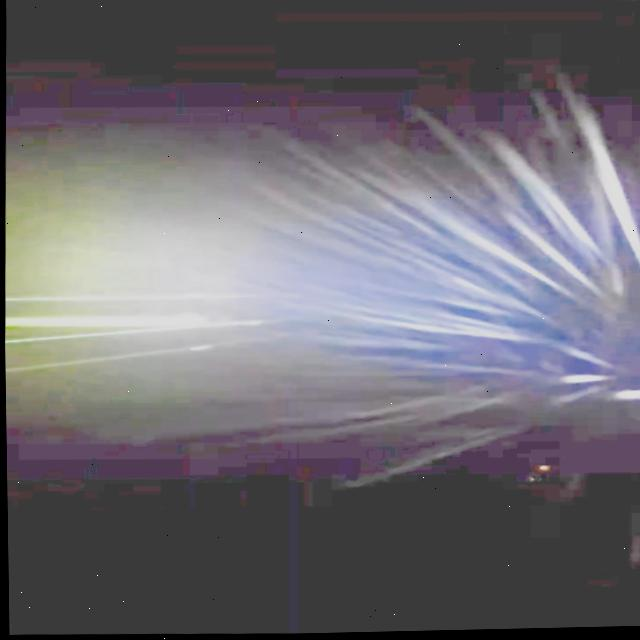poles: (5, 316, 204, 325)
wires: (4, 317, 260, 341), (4, 344, 217, 370), (5, 292, 252, 300)
